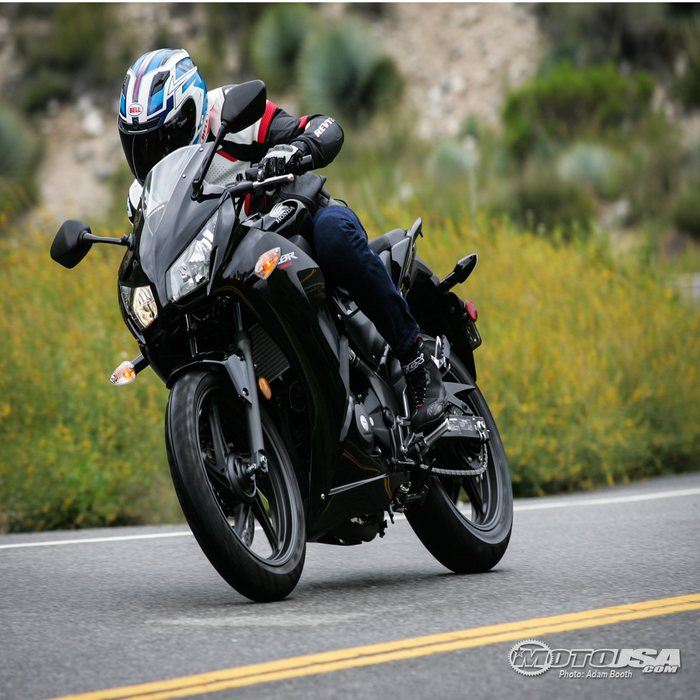h: (117, 39, 210, 196)
